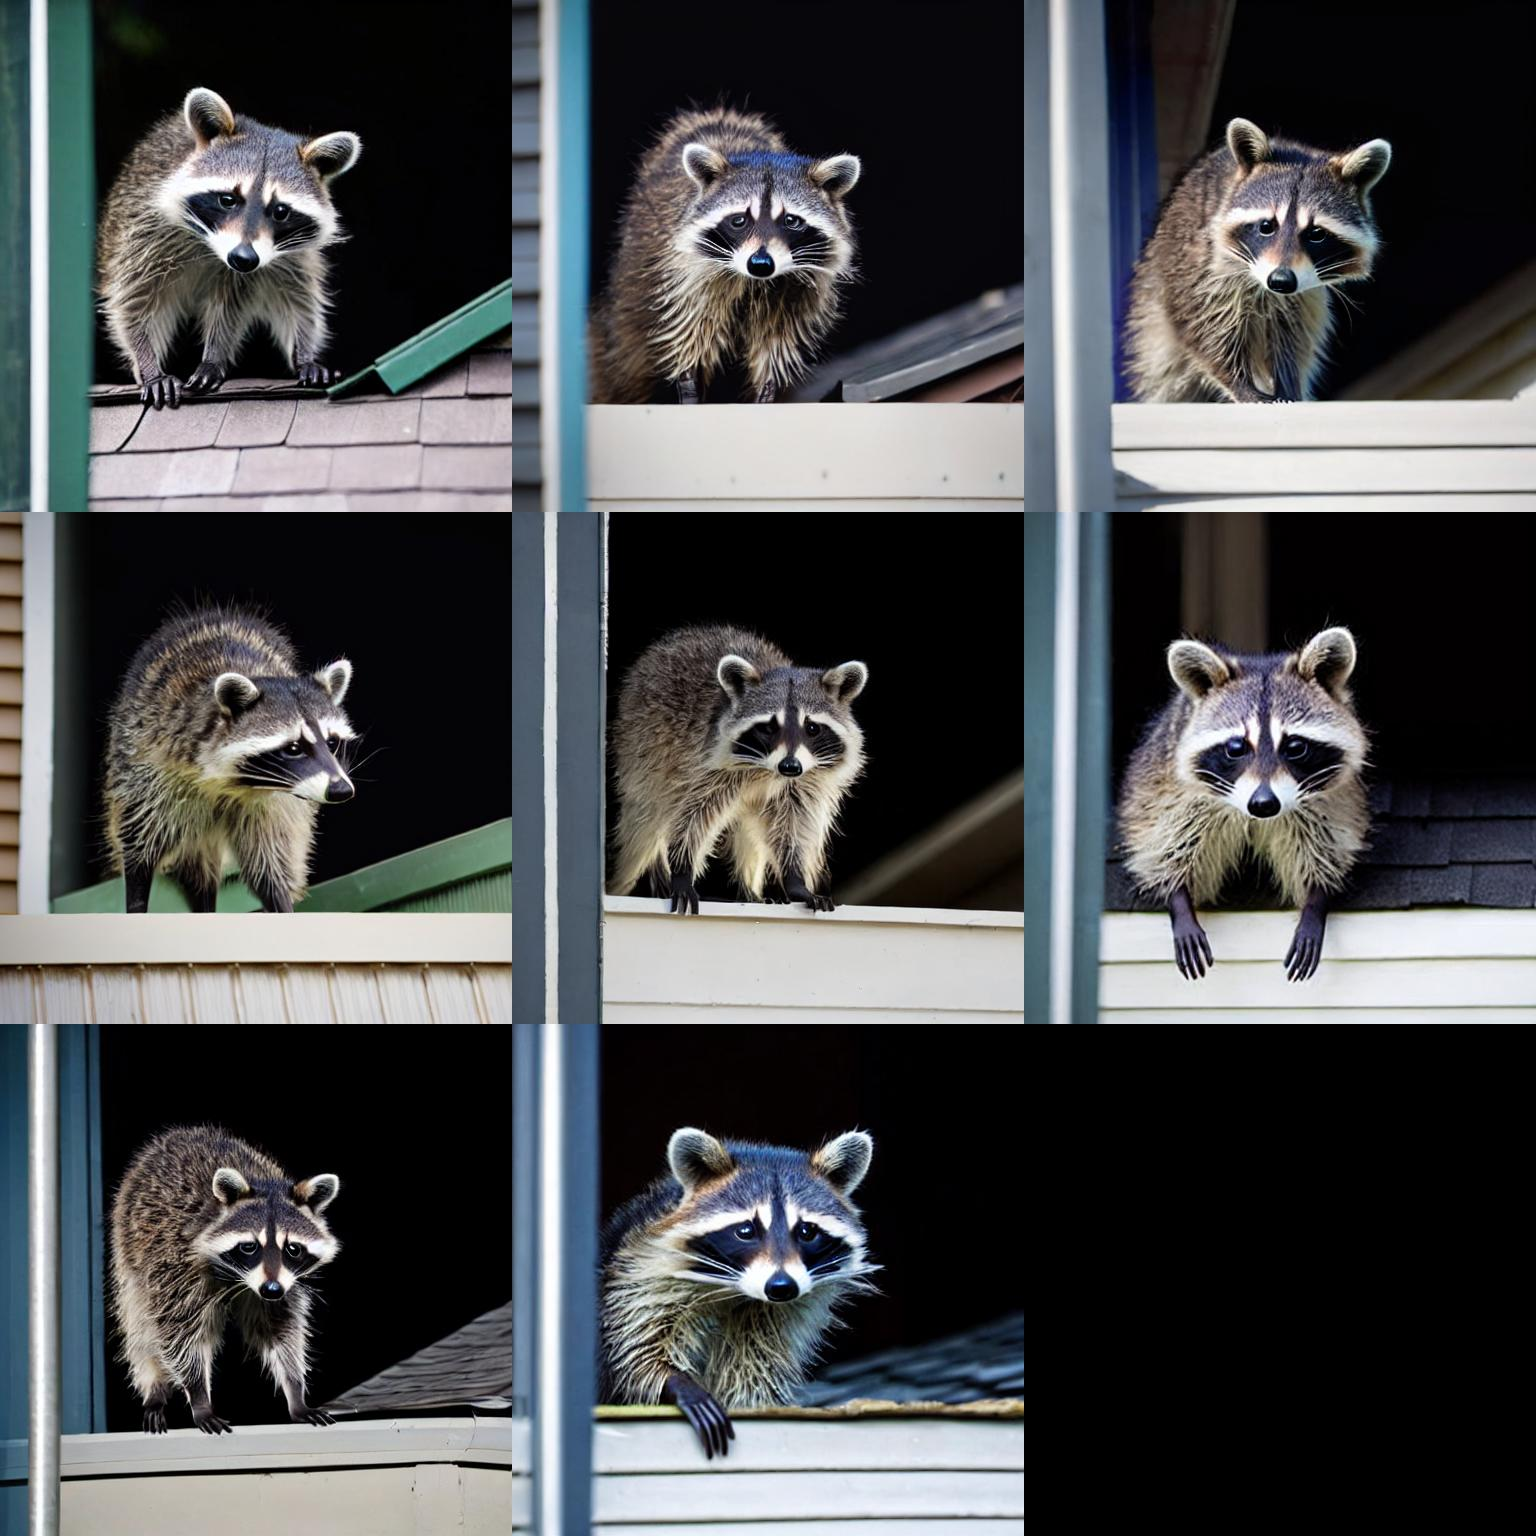raccoon: (595, 1113, 897, 1421), (1110, 113, 1408, 412), (90, 73, 364, 398), (87, 595, 364, 913), (1110, 617, 1383, 938), (588, 100, 872, 405), (96, 1106, 350, 1443), (602, 612, 885, 913)
